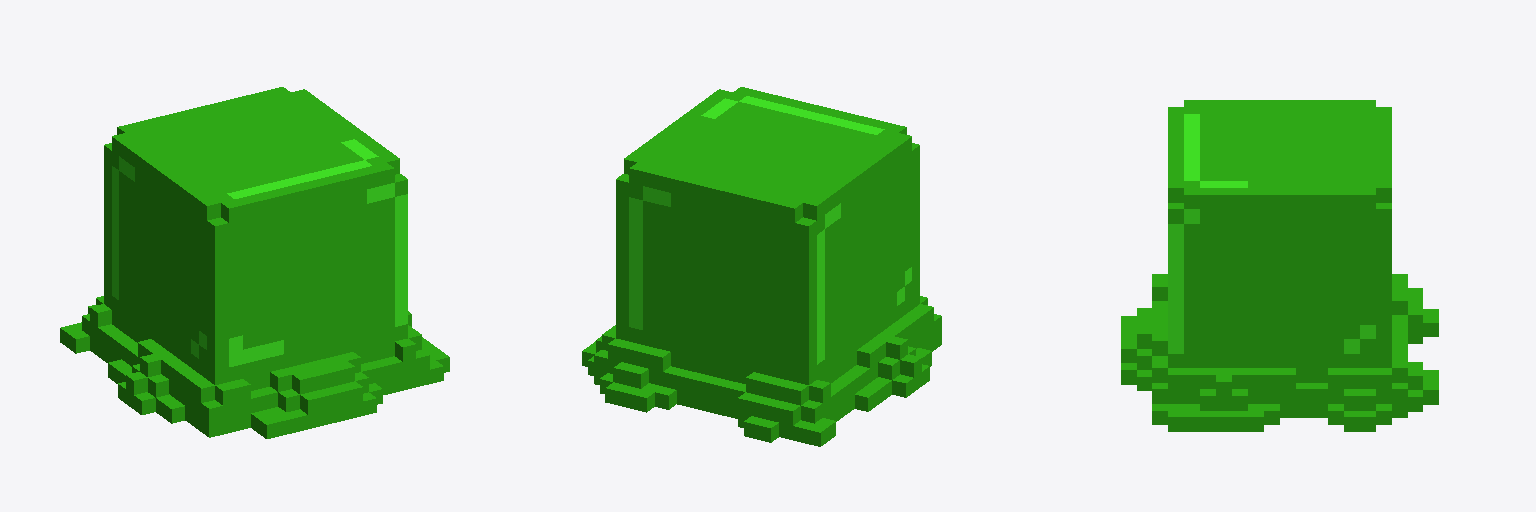
3 views of the same model, side by side, from view 1: azimuth 30°, elevation 25°; view 2: azimuth 150°, elevation 25°; view 3: azimuth 270°, elevation 25° (orthographic).
Parts seen in each view (by area): view 1: object 1; view 2: object 1; view 3: object 1.
Part boxes in pixels (x1,y1,x2,y2): object 1: (60,87,449,438); object 1: (582,87,941,446); object 1: (1121,100,1438,431).
Size of the model in its own units: 2 by 1.5 by 2.
Materials: 1 (1 with a texture image).